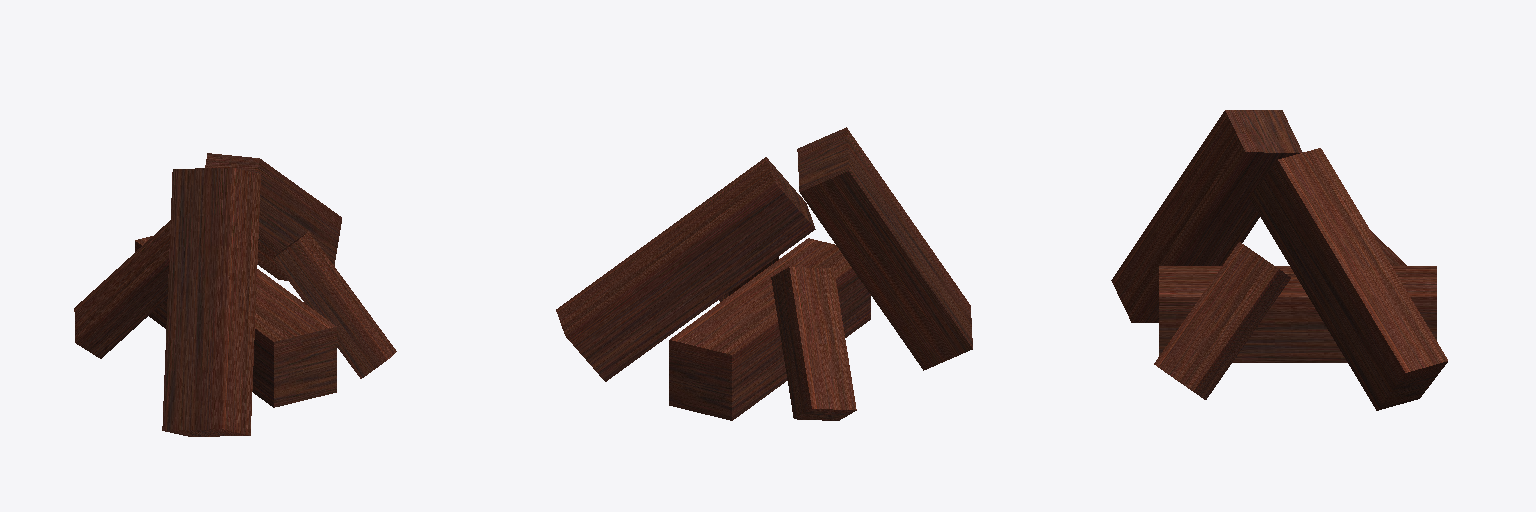
3 renders of one model, left to right at view 1: azimuth 30°, elevation 25°; view 2: azimuth 150°, elevation 25°; view 3: azimuth 270°, elevation 25°, orthographic.
Parts seen in each view (by area): view 1: 立方体; view 2: 立方体; view 3: 立方体.
Boxes of the visible parts, <box> form: 立方体: <box>74,153,396,436</box>; 立方体: <box>556,127,972,420</box>; 立方体: <box>1111,110,1447,410</box>.
Bounding box in the file's own units: 1.9 × 1.47 × 1.86.
5 materials, 1 textured.